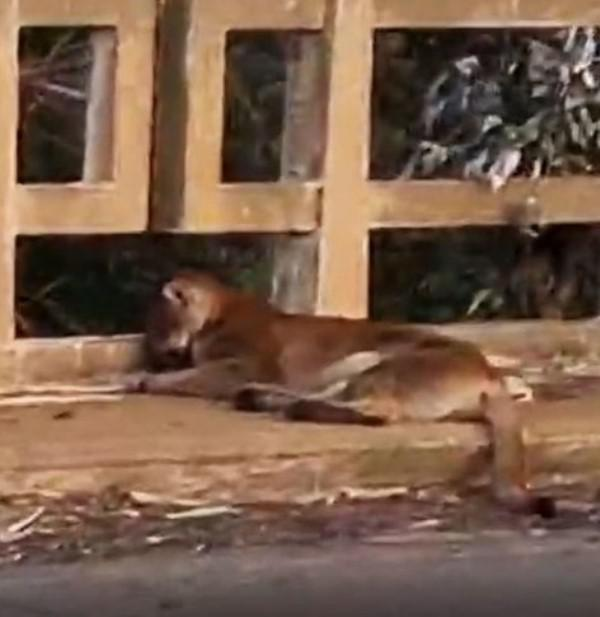OncaParda: (121, 265, 564, 527)
